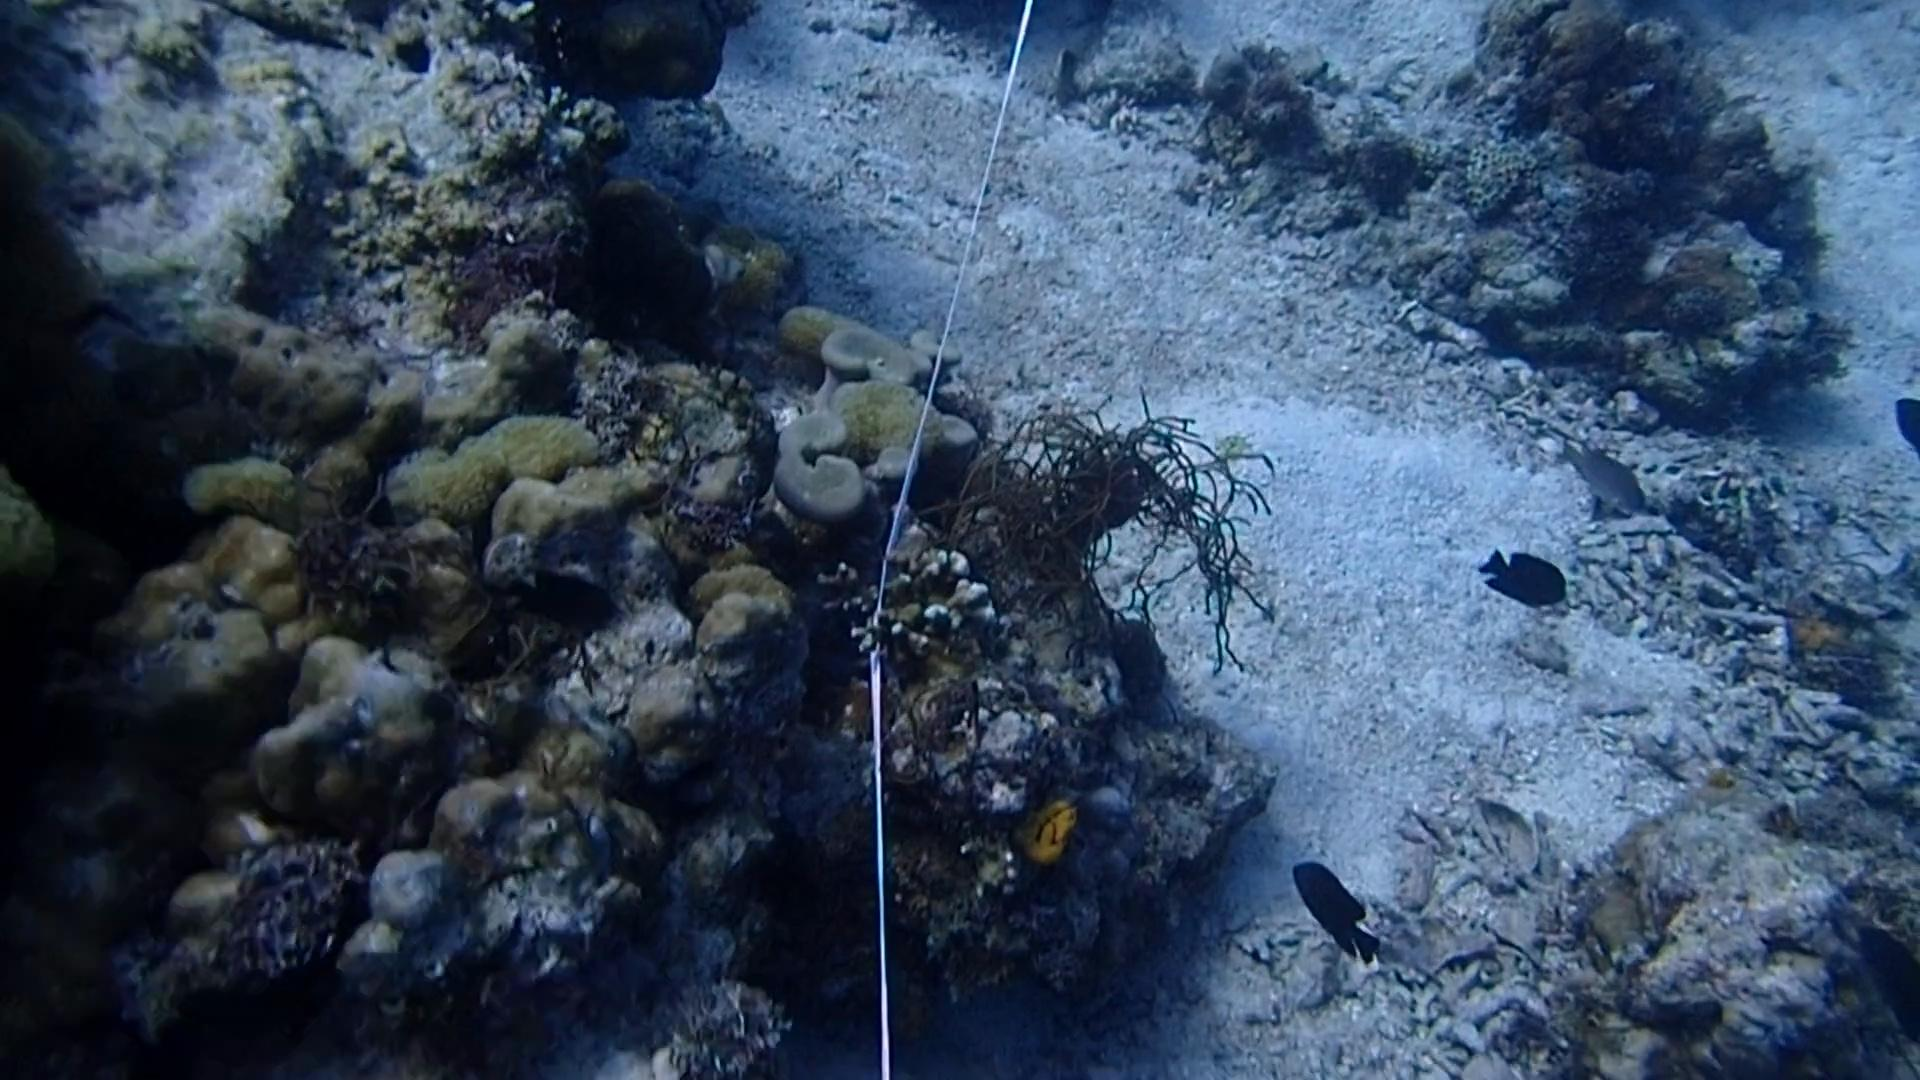Dark Fish: (1279, 847, 1387, 967), (1469, 537, 1584, 620), (1857, 915, 1920, 1043)
Light Fish: (1559, 442, 1656, 521)
